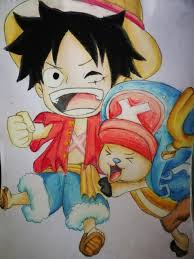chopper: (98, 80, 194, 183)
luffy: (2, 1, 163, 119)
